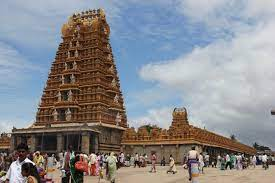Temple: (34, 8, 130, 137)
